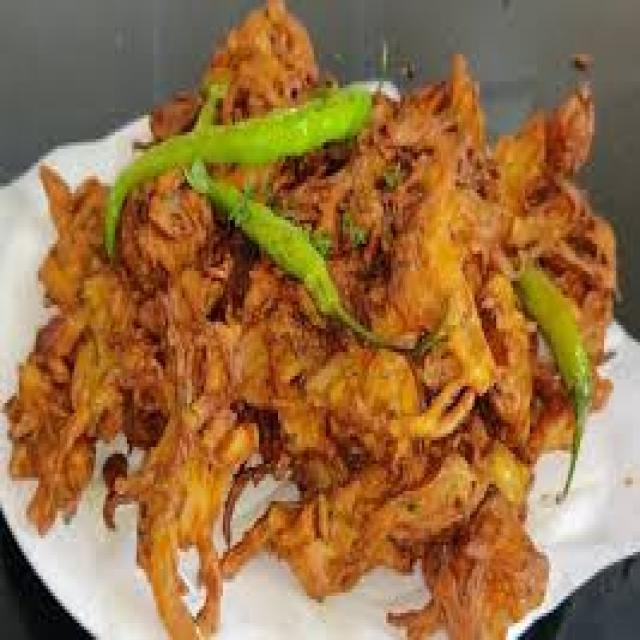BAJI: (5, 7, 612, 615)
